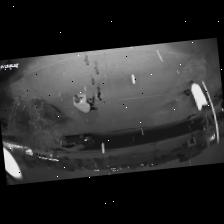person: (73, 94, 97, 112)
